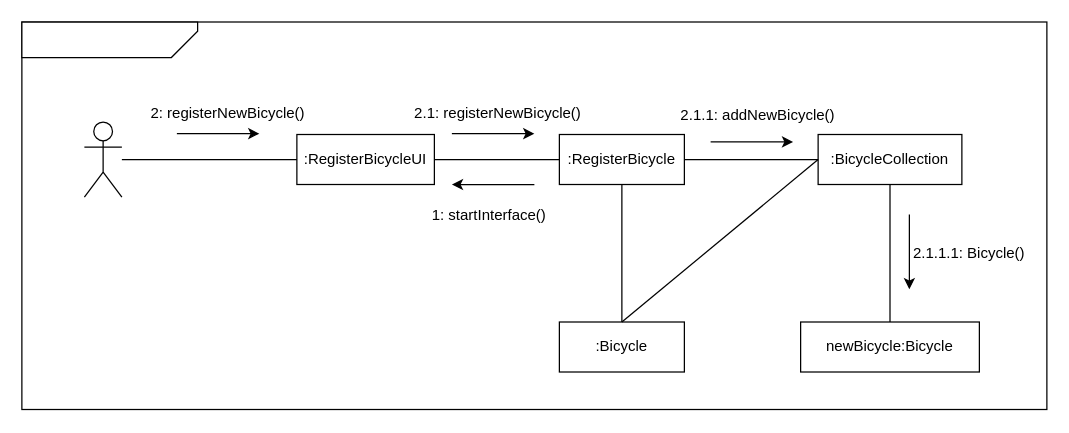
This 1069x433 diagram has some shape labels left out. The box of each missing label's shape, as (x1, y1, x2, y2) in pixels:
:Admin: (83, 121, 122, 197)
Register Bicycle: (21, 21, 198, 58)
